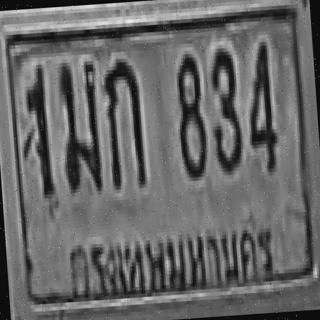A01: (101, 54, 144, 186)
A33: (56, 57, 102, 189)
N01: (22, 61, 52, 196)
N03: (206, 44, 243, 172)
N04: (243, 38, 277, 170)
N08: (172, 48, 206, 176)
P04: (60, 215, 284, 312)
